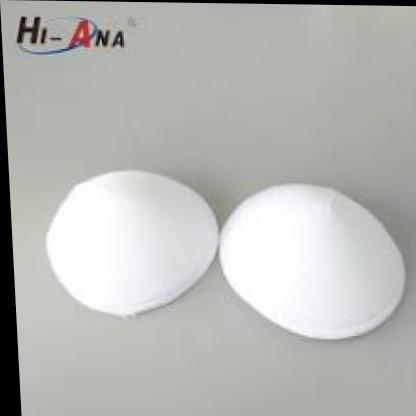Miscellaneous: (9, 127, 416, 390)
